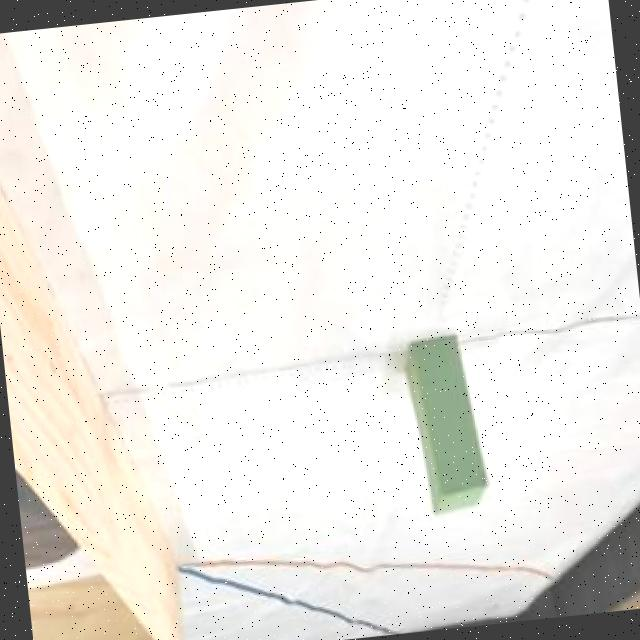greenbox: (402, 328, 484, 510)
